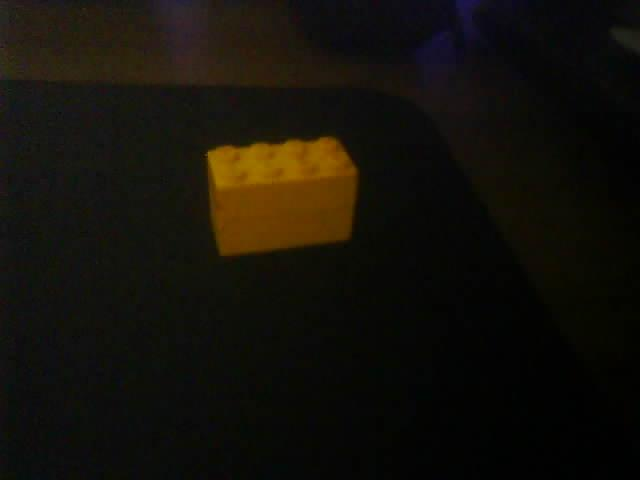lego: (206, 135, 359, 256)
